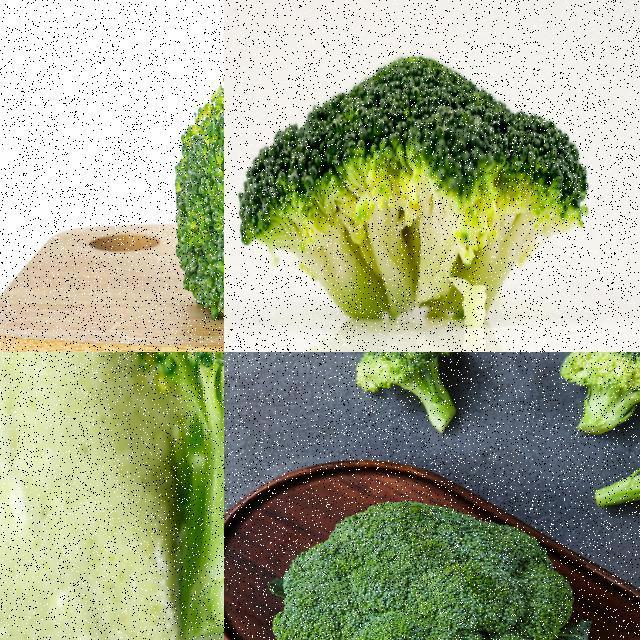broccoli: (230, 39, 592, 343), (272, 498, 580, 639), (125, 352, 223, 639), (171, 38, 223, 341), (354, 352, 470, 433), (562, 352, 639, 434), (593, 437, 639, 526)
